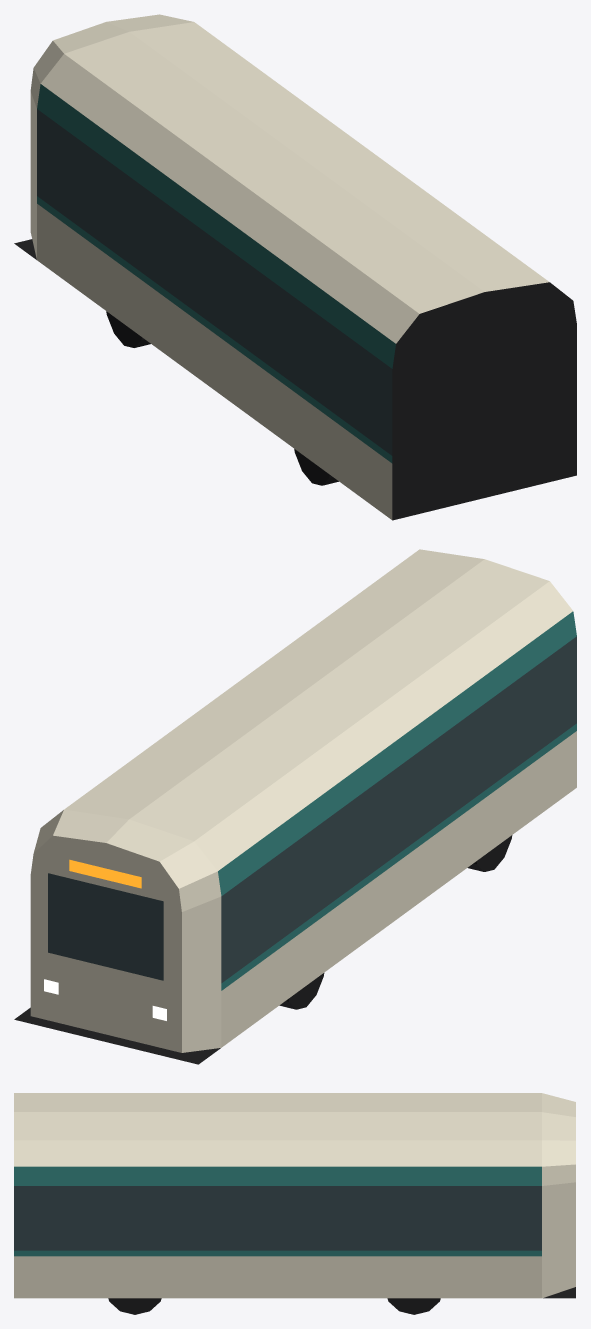
File: carrow_tram_front_lod.glb
3 renders of one model, top to bottom at view 1: azimuth 30°, elevation 25°; view 2: azimuth 150°, elevation 25°; view 3: azimuth 270°, elevation 25°, orthographic. The views are drawn at different scales.
Parts seen in each view (by area): view 1: lod; view 2: lod; view 3: lod.
Boxes of the visible parts, x1,y1,x2,y2 form: lod: (14,14,576,520); lod: (14,549,576,1064); lod: (14,1093,575,1314).
Bounding box in the file's own units: 2.55 × 3.02 × 9.07.
